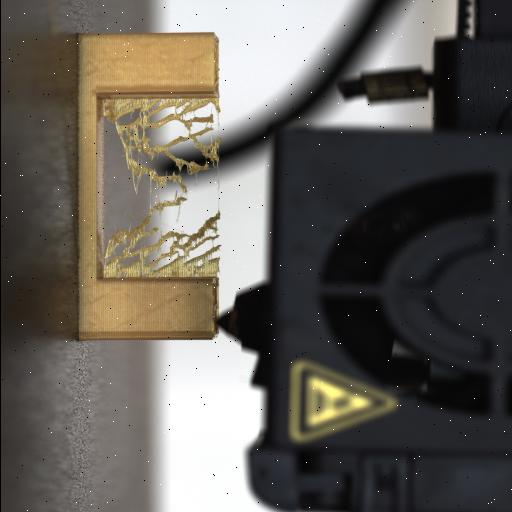stringing: (102, 97, 221, 278)
